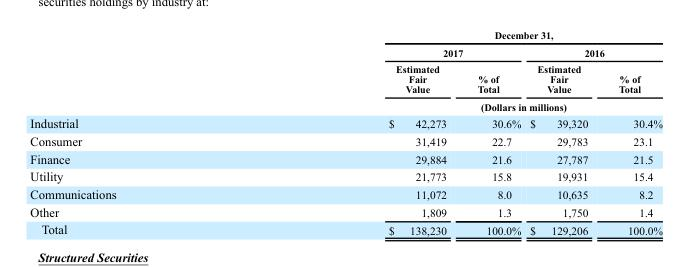table: (29, 29, 661, 236)
table column: (29, 29, 251, 236), (251, 29, 461, 236), (524, 29, 602, 236), (461, 29, 524, 236), (602, 29, 661, 236)
table column header: (29, 29, 661, 114)
table row: (29, 60, 661, 97), (29, 131, 661, 149), (29, 149, 661, 167), (29, 184, 661, 202), (29, 202, 661, 220), (29, 43, 661, 60), (29, 97, 661, 114), (29, 114, 661, 131), (29, 167, 661, 184), (29, 220, 661, 236), (29, 29, 661, 43)
table spanning cell: (251, 97, 661, 114), (251, 29, 661, 43), (251, 43, 524, 60), (524, 43, 661, 60)
